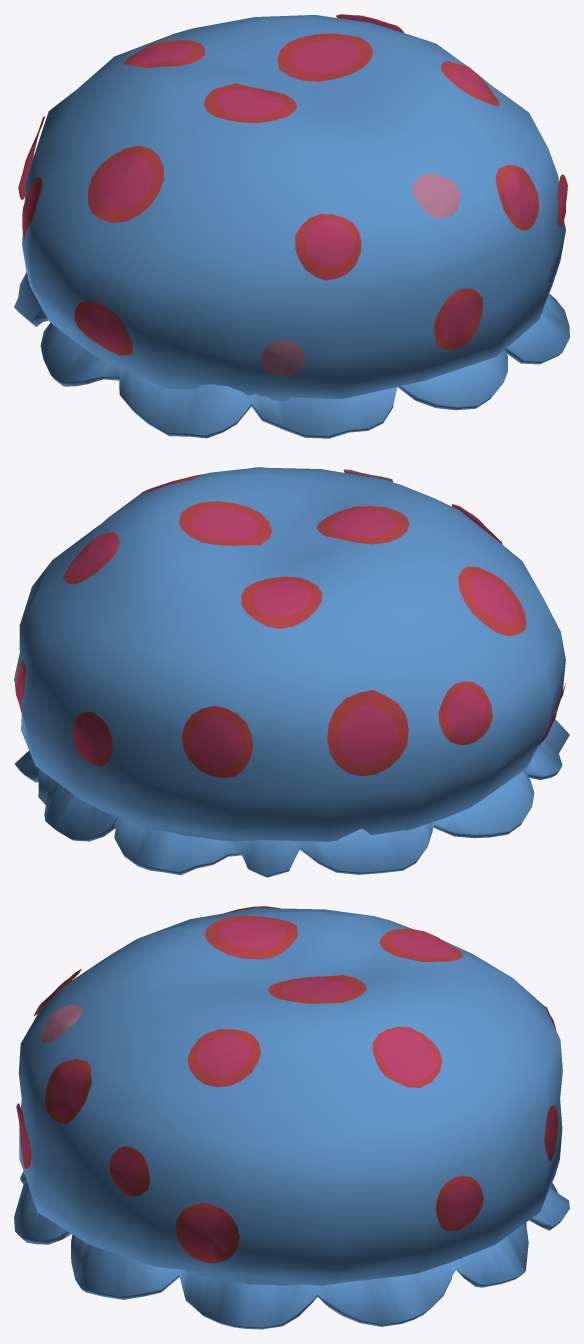
File: ShowerCap.fbx
3 renders of one model, top to bottom at view 1: azimuth 30°, elevation 25°; view 2: azimuth 150°, elevation 25°; view 3: azimuth 270°, elevation 25°, orthographic.
Visible parts, largest first — view 1: ShowerCap; view 2: ShowerCap; view 3: ShowerCap.
Part boxes in pixels (x1,y1,x2,y2): ShowerCap: [14, 14, 569, 438]; ShowerCap: [14, 467, 569, 877]; ShowerCap: [14, 906, 569, 1329].
Size of the model in its own units: 81.96 by 43.01 by 81.86.
